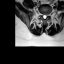CCS_normal: (44, 12, 45, 21)
LFS_normal: (47, 11, 49, 17)
LLS_normal: (45, 12, 47, 19)
RFS_stenosis: (40, 11, 42, 17)
RLS_normal: (42, 11, 44, 19)
